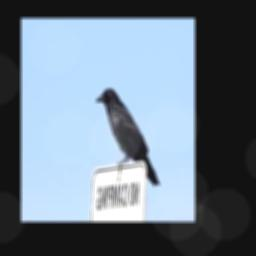Crow: (96, 87, 161, 186)
